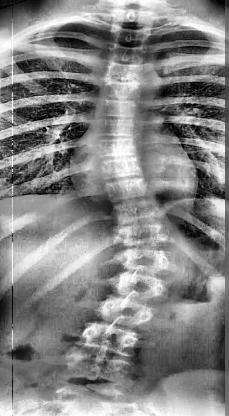Vertebrae: (63, 346, 132, 380), (96, 296, 156, 330), (77, 325, 139, 355), (112, 196, 166, 228), (116, 272, 170, 300), (117, 249, 173, 273), (118, 224, 172, 246), (104, 177, 152, 201), (100, 156, 144, 180), (92, 116, 136, 139), (102, 61, 144, 84), (100, 79, 142, 101), (104, 45, 148, 65), (109, 26, 151, 46), (96, 138, 138, 158), (110, 8, 154, 26), (97, 100, 136, 118)
